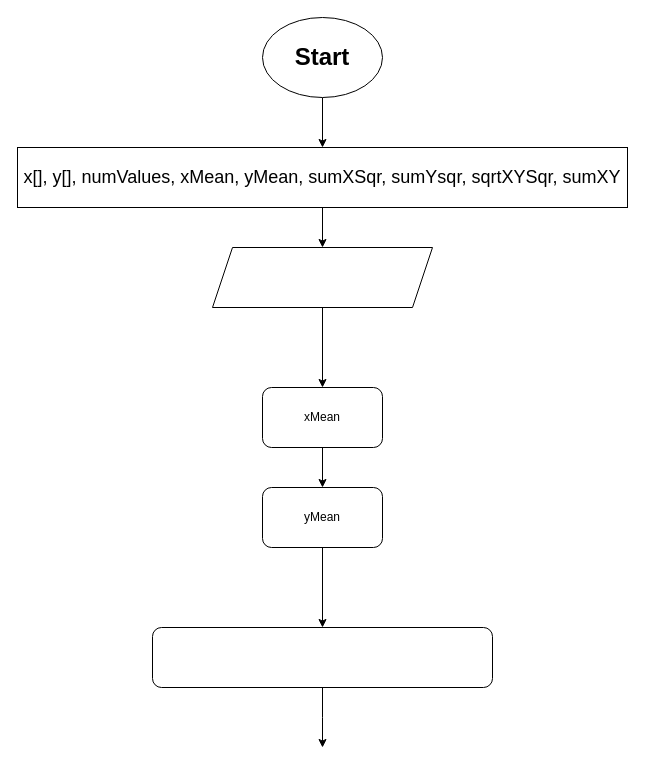
The diagram is 645 pixels wide and 773 high, and some of its shapes have lost their labels. The box of each missing label's shape, as (x1, y1, x2, y2) in pixels:
numValues, x[], y[]: (212, 246, 432, 308)
sumXY of (xi - xMean)(yi - yMean): (152, 626, 492, 688)
